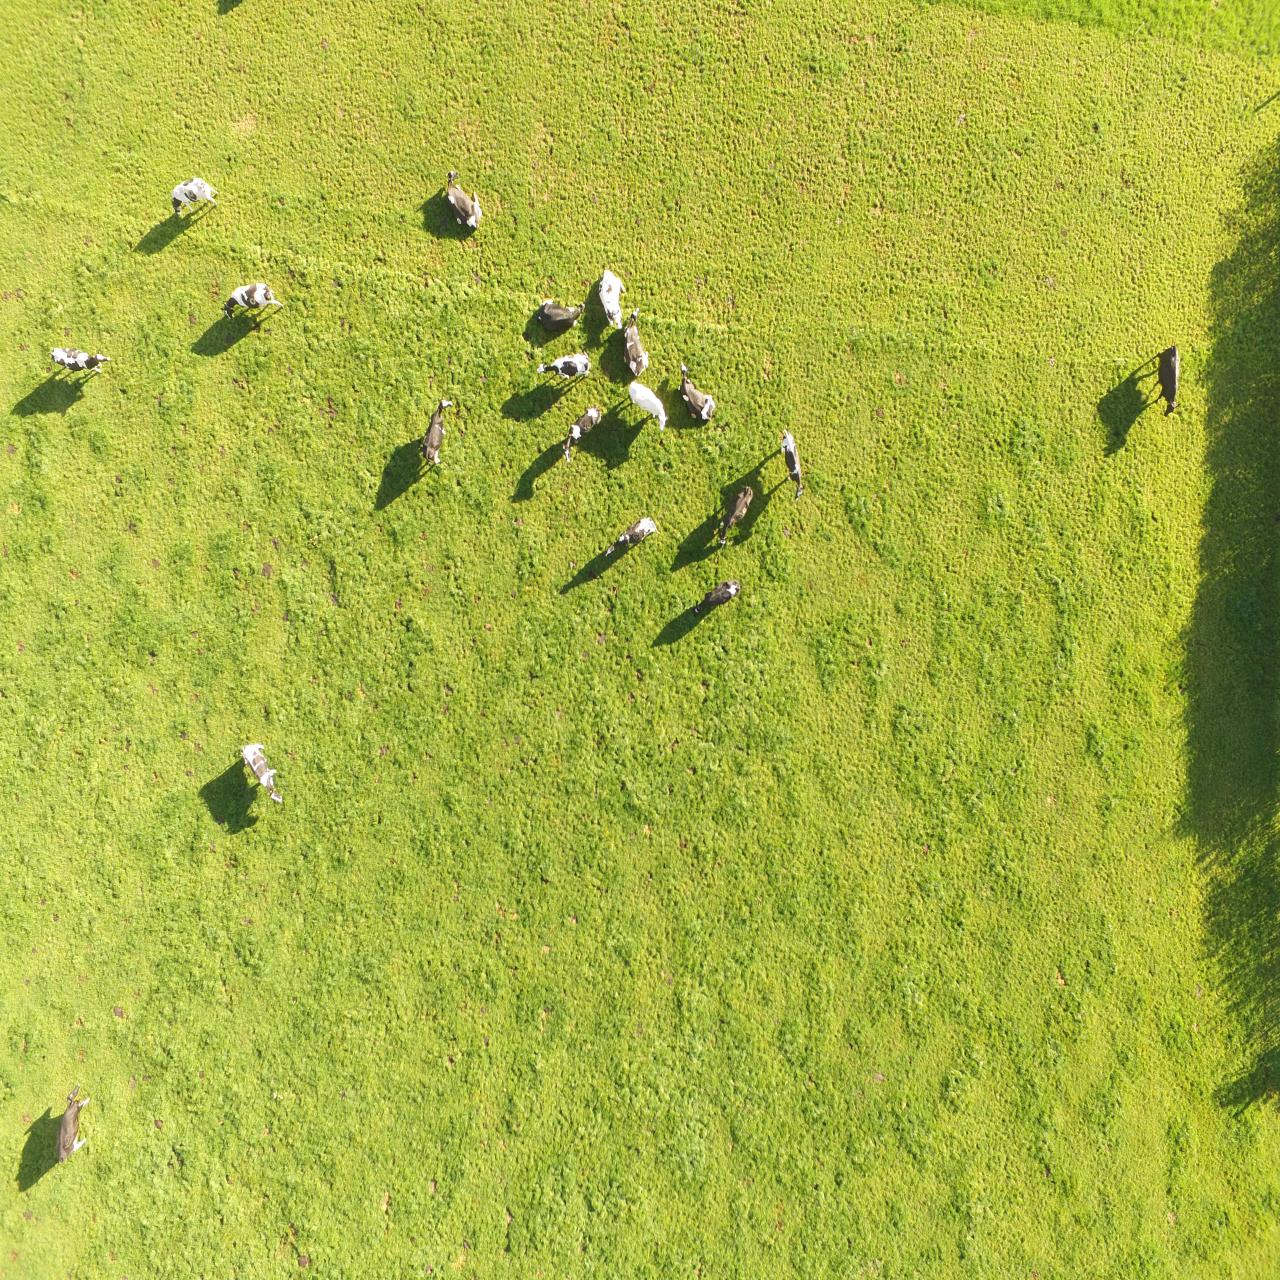cow: (237, 735, 284, 806), (710, 483, 757, 549), (53, 1084, 88, 1170), (437, 166, 483, 231), (561, 401, 607, 464), (222, 280, 285, 324), (605, 512, 661, 559), (621, 306, 654, 380), (164, 181, 219, 224), (45, 343, 113, 377), (1151, 341, 1179, 421), (592, 266, 628, 327), (676, 374, 719, 424), (627, 381, 668, 431), (535, 297, 584, 334), (692, 577, 741, 613), (532, 352, 594, 380), (781, 429, 804, 499)
